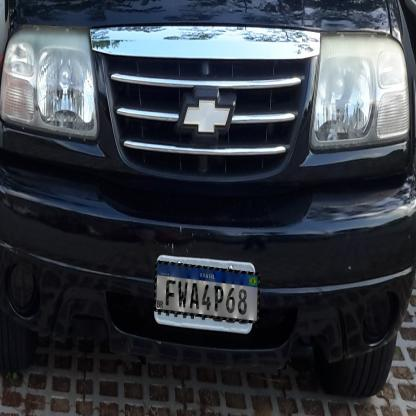PlacaM: (154, 260, 260, 324)
